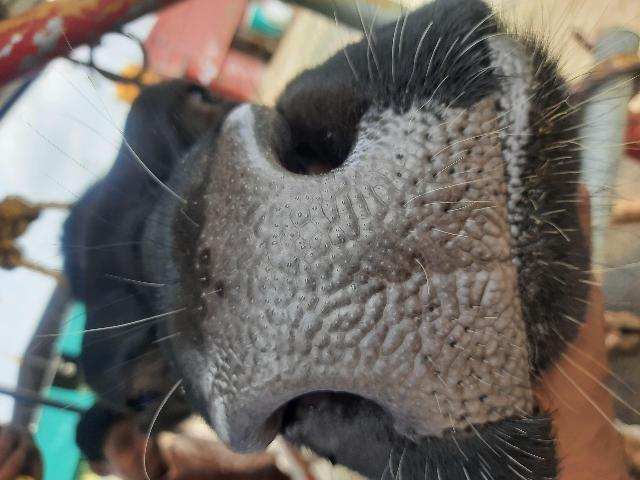Muzzle: (217, 178, 517, 388)
